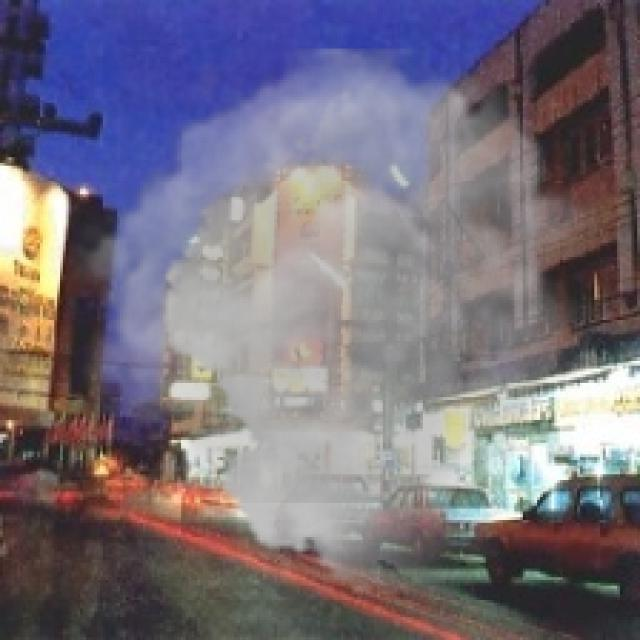smoke: (63, 49, 606, 594)
